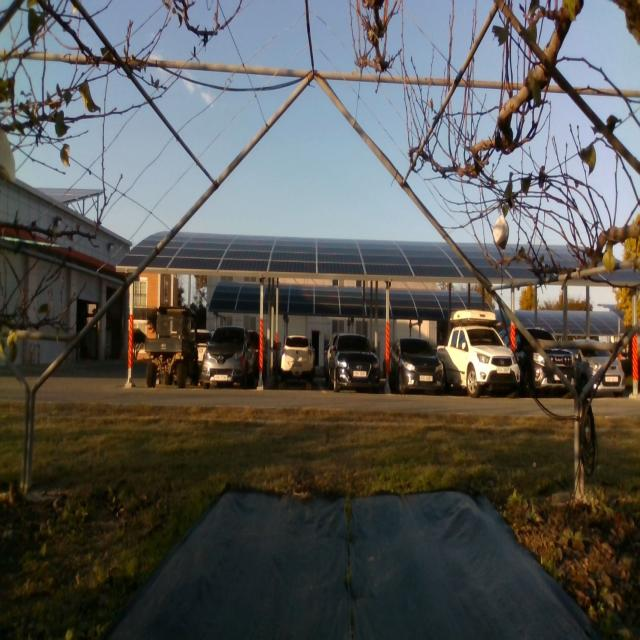pearbags: (494, 214, 509, 250)
